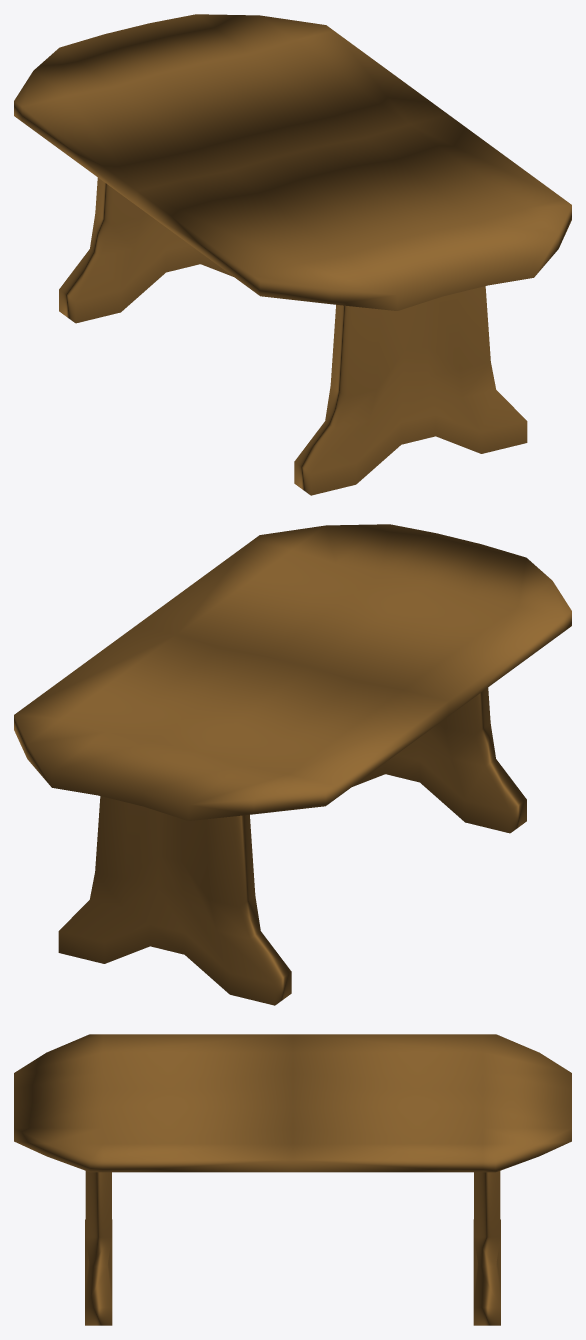
File: table_wooden.fbx
The picture shows the model from 3 angles, top to bottom: view 1: azimuth 30°, elevation 25°; view 2: azimuth 150°, elevation 25°; view 3: azimuth 270°, elevation 25°; orthographic projection. The views are drawn at different scales.
Visible parts, largest first — view 1: table_wooden; view 2: table_wooden; view 3: table_wooden.
Part boxes in pixels (x1,y1,x2,y2): table_wooden: (14, 14, 571, 495); table_wooden: (14, 524, 571, 1005); table_wooden: (14, 1034, 571, 1325).
Size of the model in its own units: 162 by 111 by 303.
